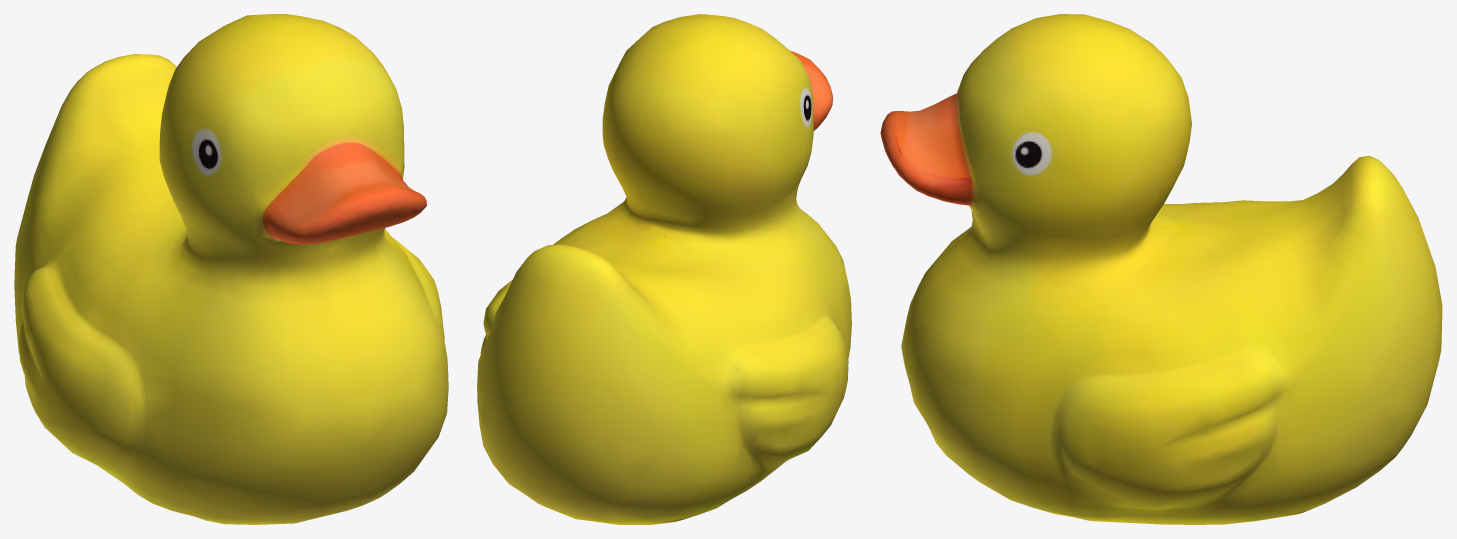
File: ducky.glb
3 views of the same model, side by side, from view 1: azimuth 30°, elevation 25°; view 2: azimuth 150°, elevation 25°; view 3: azimuth 270°, elevation 25° (orthographic). The views are drawn at different scales.
Bounding box in the file's own units: 1.41 × 1.69 × 1.91.
1 material, 1 textured.
